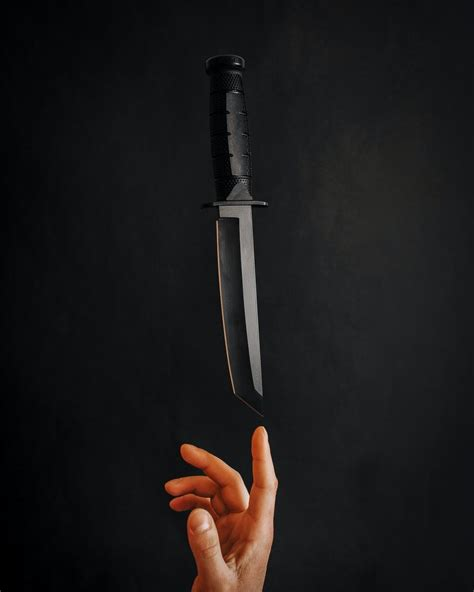knife: (203, 51, 270, 425)
